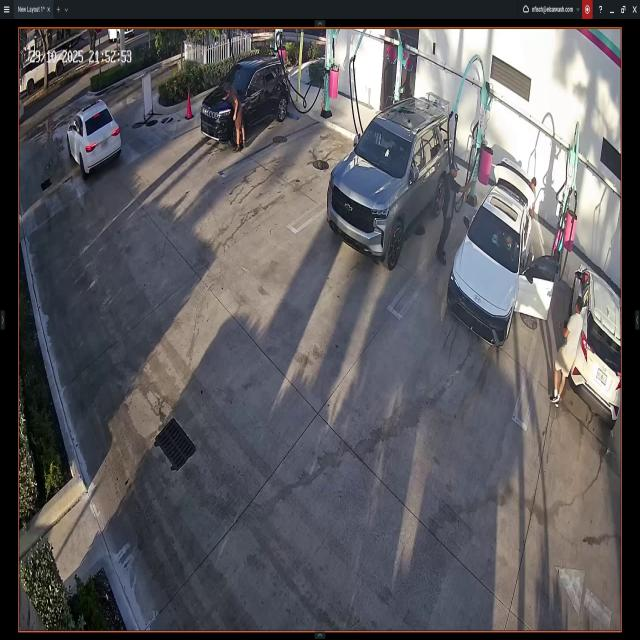Car: (328, 93, 454, 267), (450, 163, 552, 344), (568, 264, 620, 430), (203, 58, 290, 143), (68, 104, 121, 176)
